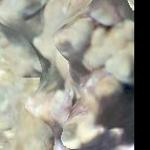alive: (10, 17, 135, 141)
